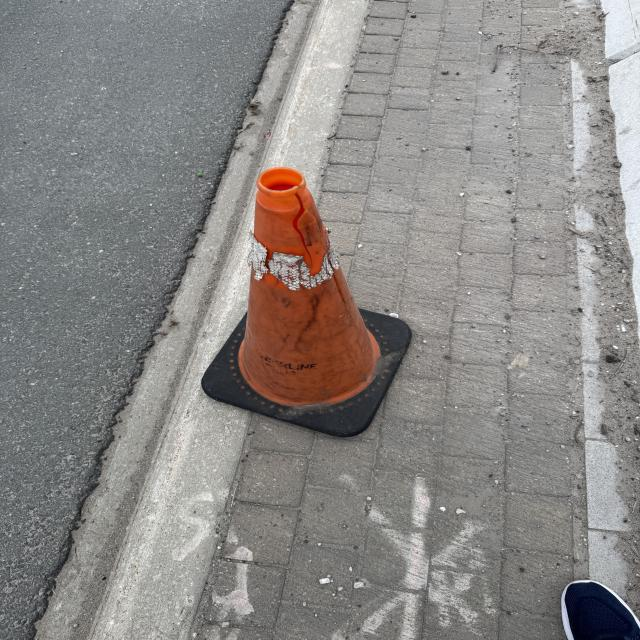Traffic Cone: (198, 168, 414, 441)
